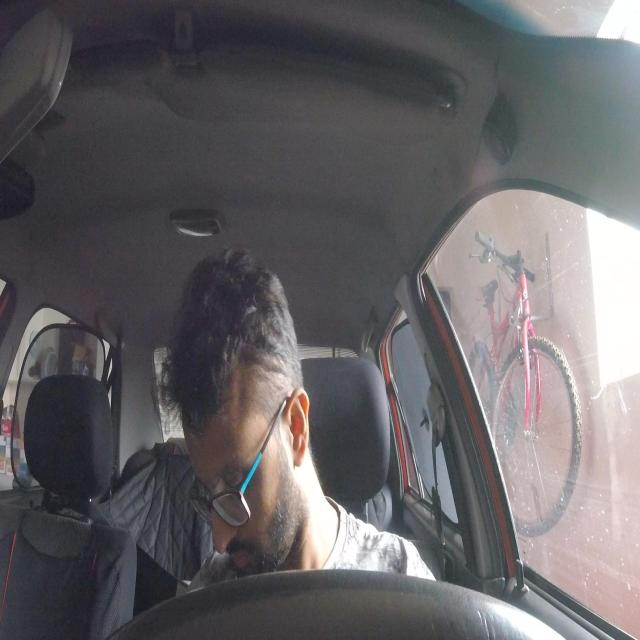close: (215, 457, 252, 505)
